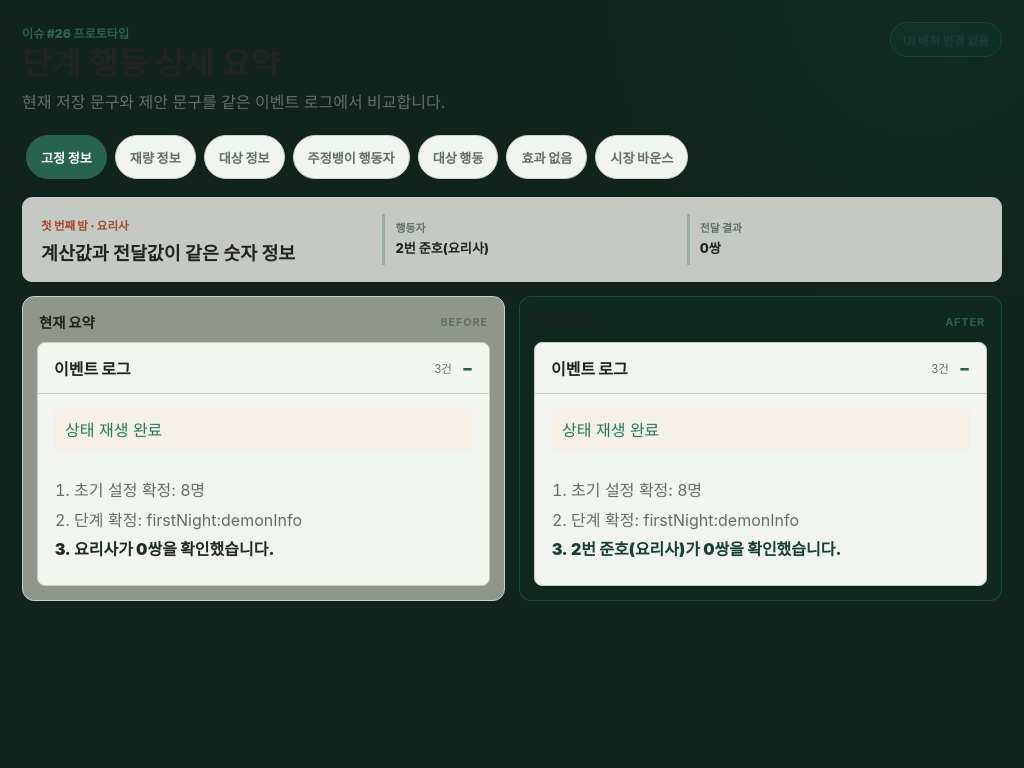
shows outcome and audit context for applied and no-effect actions
What coordinates should you click on to do the following:
click the button "대상 행동"
I would click on:
 (458, 157)
Its box is [418, 135, 498, 179].
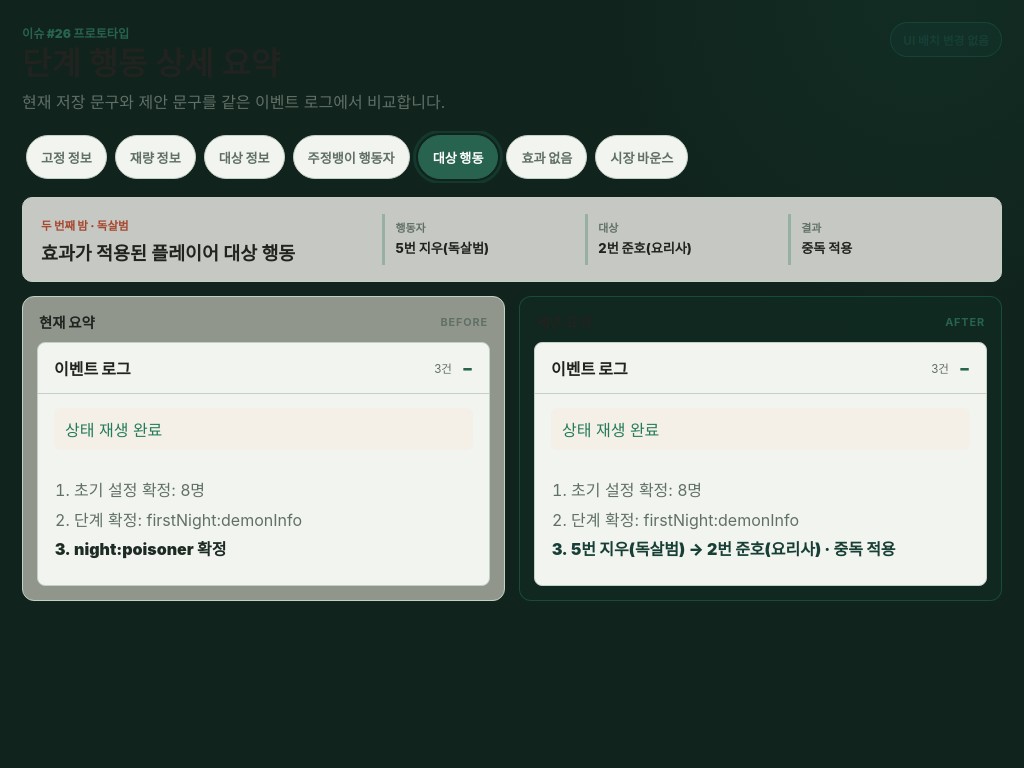
expect the list item "5번 지우(독살범) → 2번 준호(요리사) · 중독 적용" is shown: met, box [571, 539, 896, 559]
What coordinates should you click on to do the following:
click the button "효과 없음"
I would click on:
 (547, 157)
Its box is [506, 135, 587, 179].
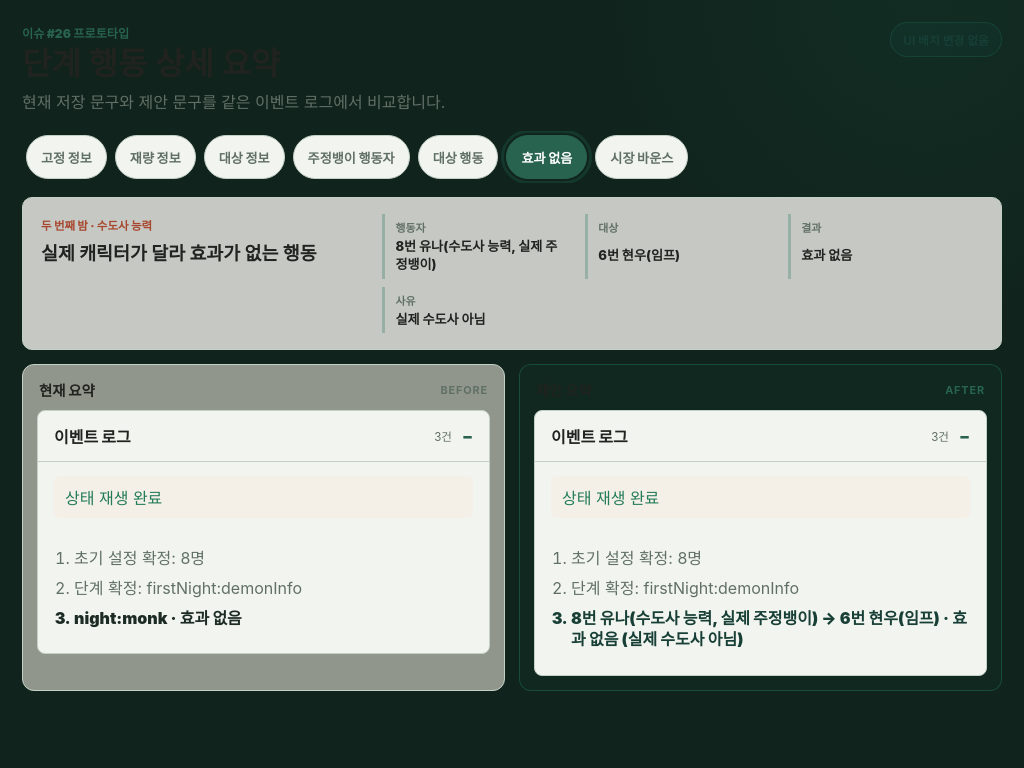
expect the list item "8번 유나(수도사 능력, 실제 주정뱅이) → 6번 현우(임프) · 효과 없음 (실제 수도사 아님)" is shown: met, box [571, 608, 970, 651]
What coordinates should you click on to do the following:
click the button "재량 정보"
I would click on:
 (155, 157)
Its box is [115, 135, 196, 179].
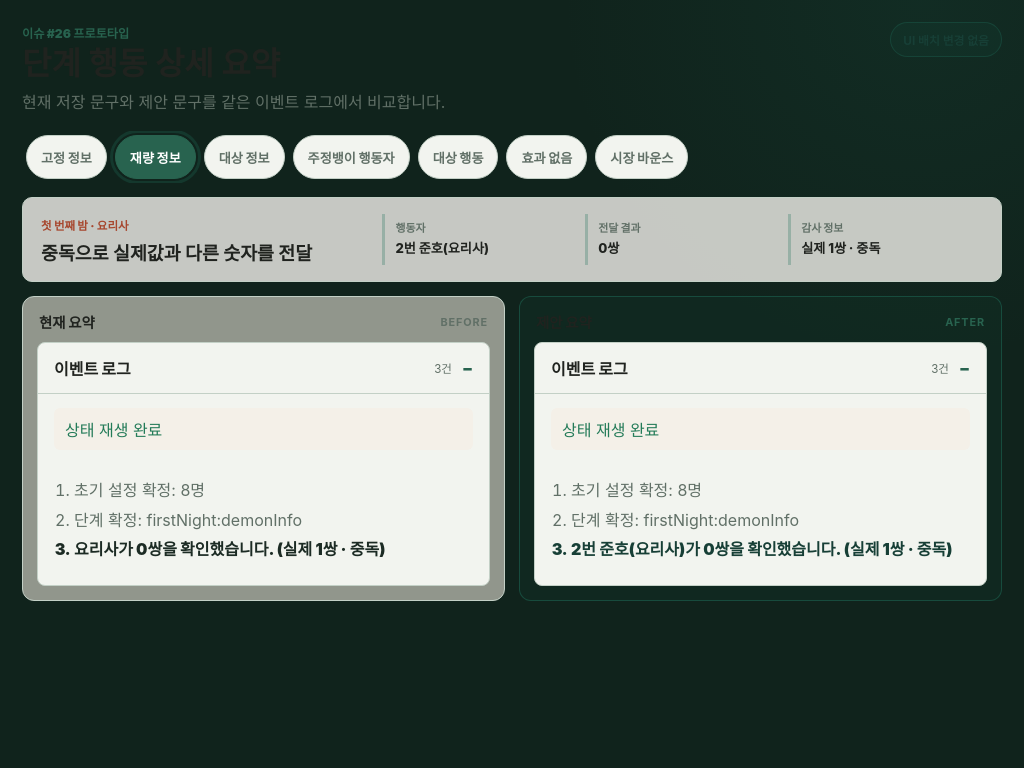
expect the list item "2번 준호(요리사)가 0쌍을 확인했습니다. (실제 1쌍 · 중독)" is shown: met, box [571, 539, 970, 561]
